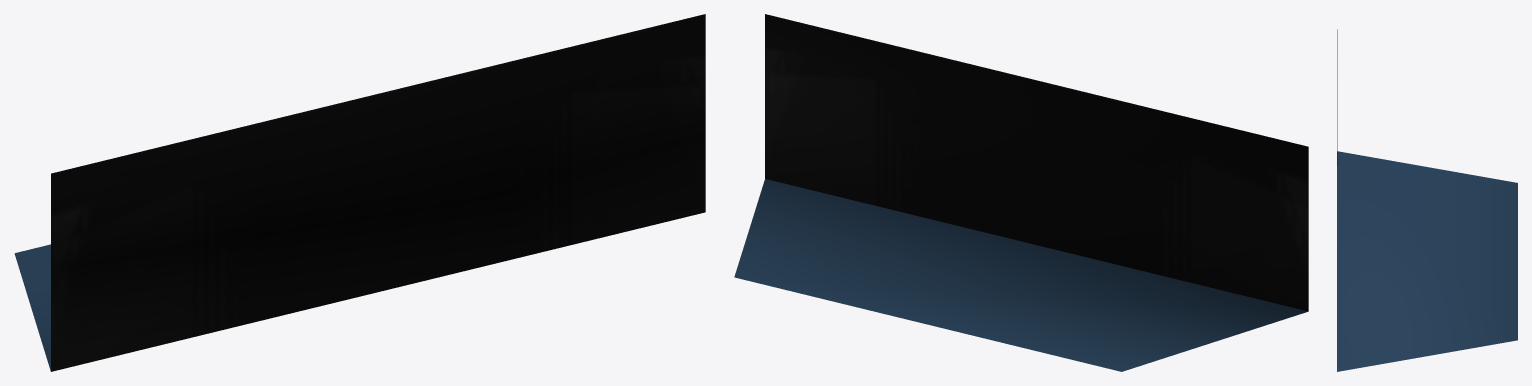
File: ARC0610036.fbx
3 renders of one model, left to right at view 1: azimuth 30°, elevation 25°; view 2: azimuth 150°, elevation 25°; view 3: azimuth 270°, elevation 25°, orthographic. The views are drawn at different scales.
Parts seen in each view (by area): view 1: smARC0610036; view 2: smARC0610036; view 3: smARC0610036.
Part boxes in pixels (box(x1,y1,x2,y2)): smARC0610036: box(14, 14, 705, 371); smARC0610036: box(734, 14, 1308, 371); smARC0610036: box(1337, 29, 1517, 371).
Bounding box in the file's own units: 2405 × 697 × 833.
1 material, 1 textured.
